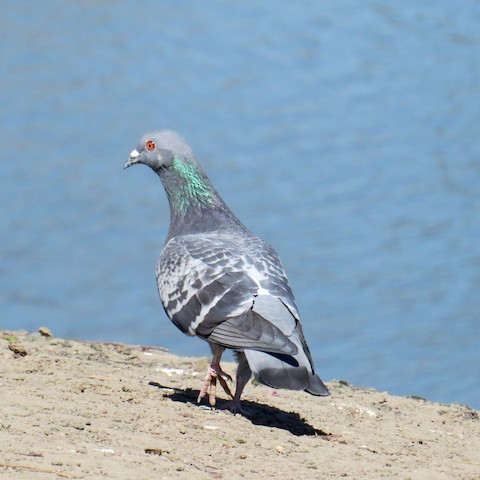pigeon: (104, 121, 341, 417)
